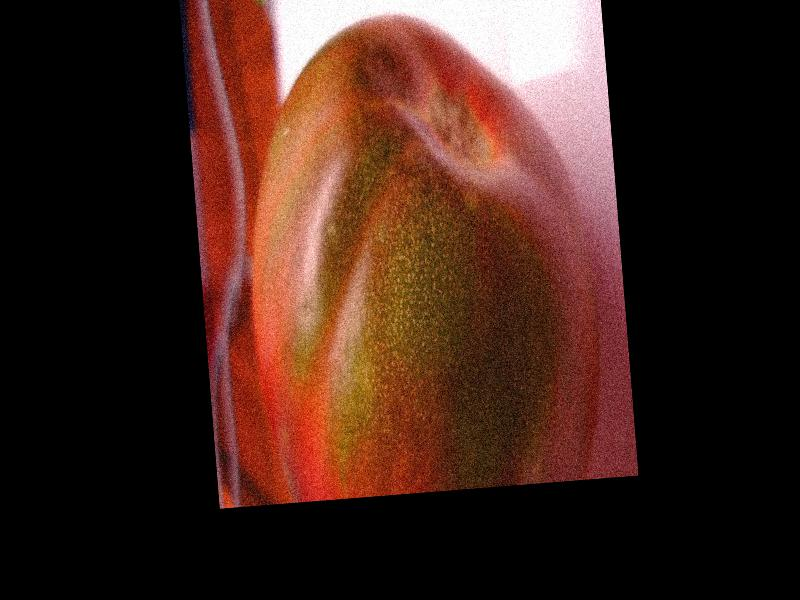Tomato: (229, 2, 609, 503)
